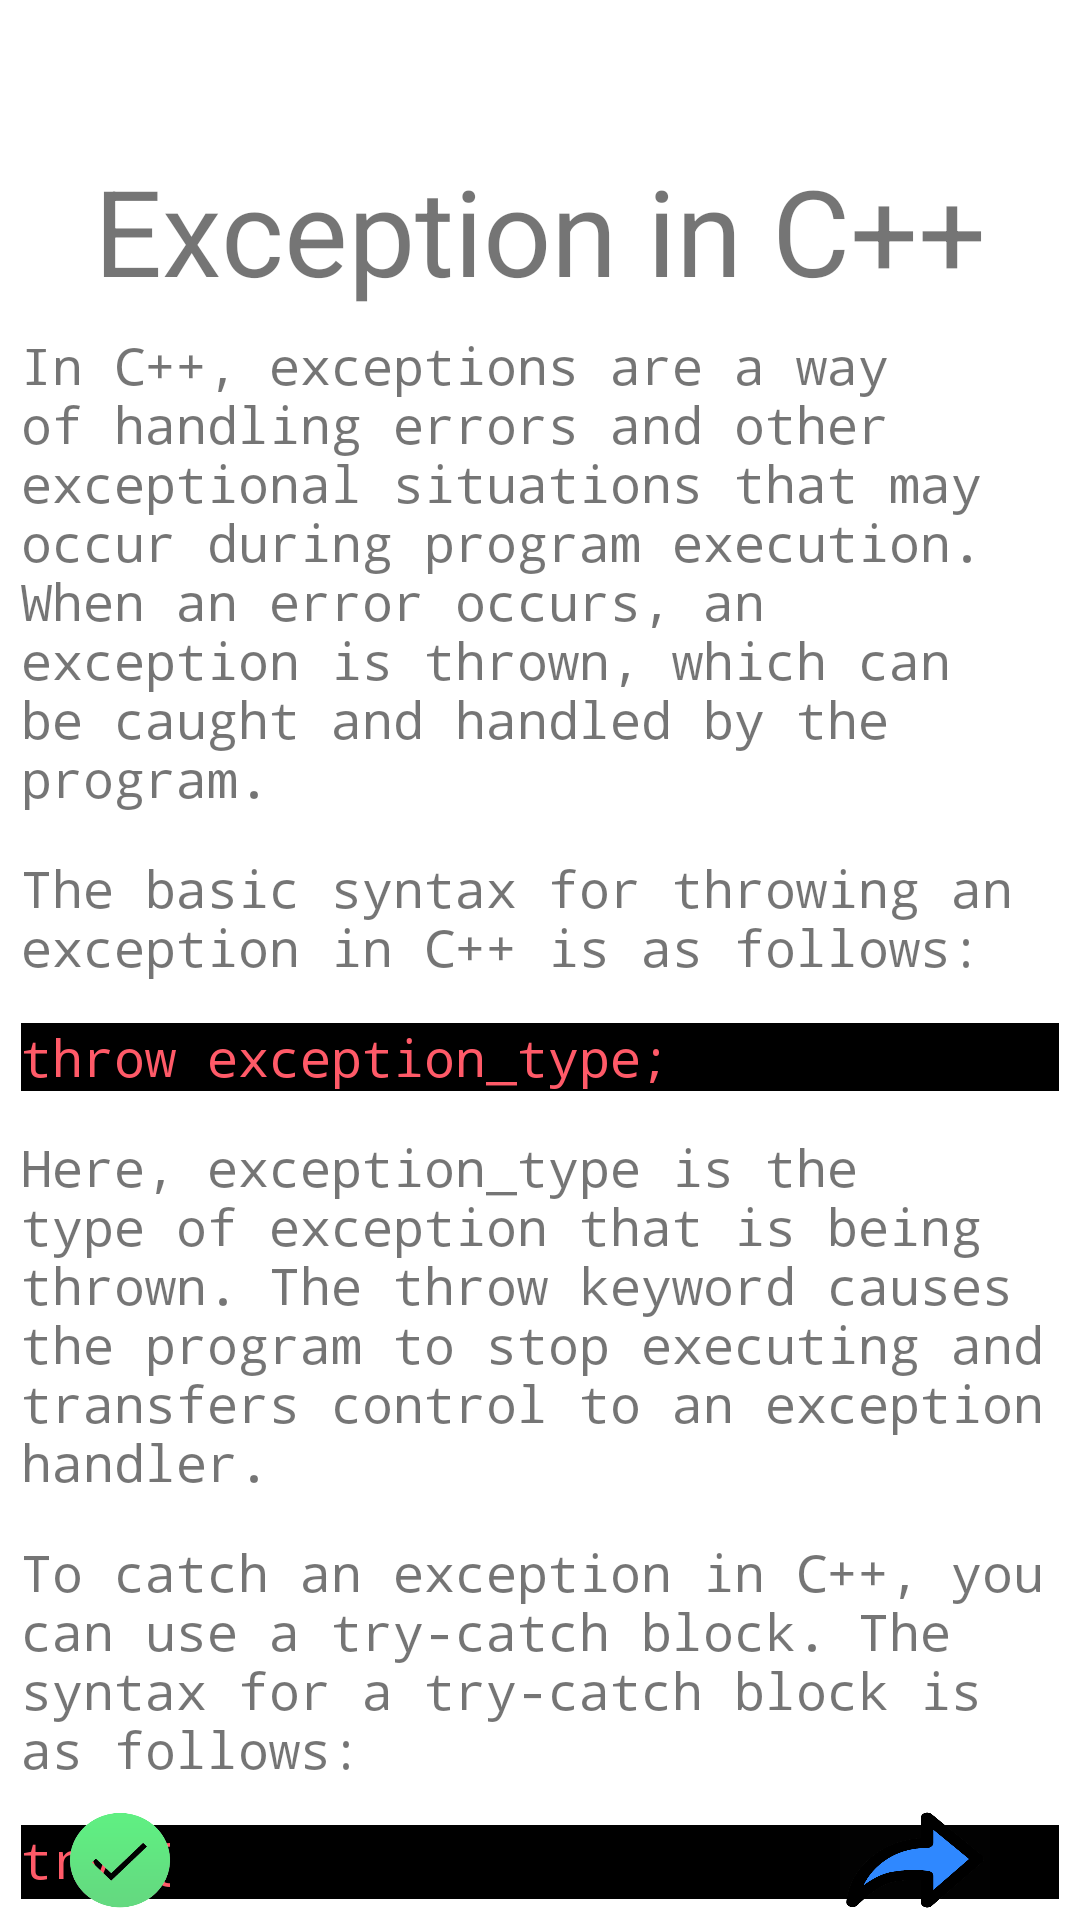

Icons on this 1080 x 1920 Android screen, each with its box as (x1, y1, x2, y2):
next: (840, 1812, 990, 1908)
